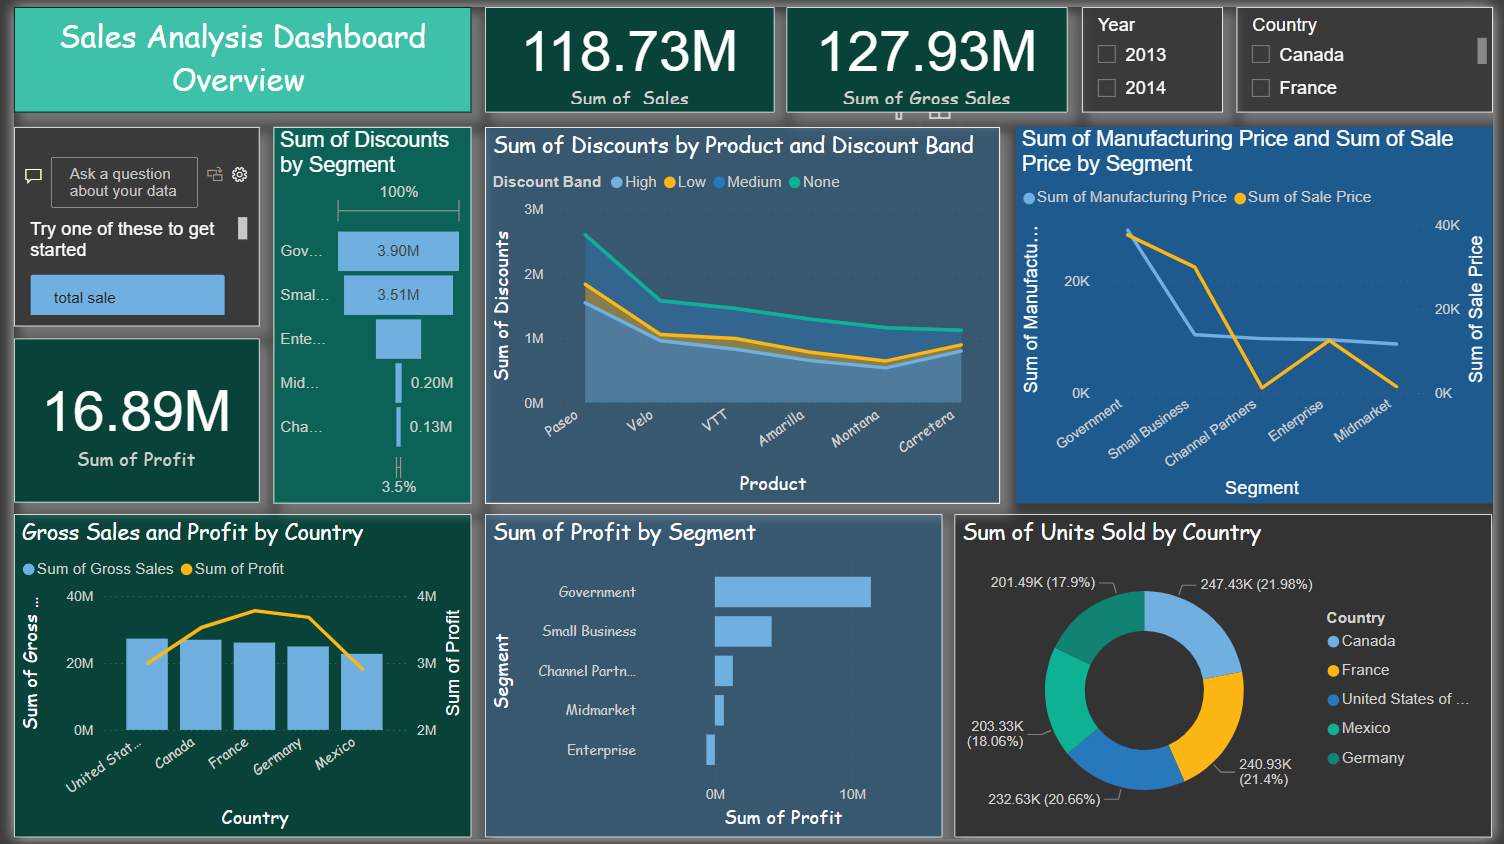

Layout of this report page (visuals, bound fields, positions):
{"tool":"powerbi","page":{"name":"Page 1","canvas":[1280,720],"ordinal":0},"visuals":[{"type":"lineStackedColumnComboChart","title":"Gross Sales and Profit by Country","fields":{"Category":["financials.Country"],"Y":["Sum(financials.Gross Sales)"],"Y2":["Sum(financials.Profit)"]},"box":[0,439.5,396.3,280.2],"z":0},{"type":"textbox","box":[0,0,396.3,91.4],"z":1000},{"type":"barChart","fields":{"Category":["financials.Segment"],"Y":["Sum(financials.Profit)"]},"box":[407.4,439.5,396.3,280.2],"z":2000},{"type":"donutChart","fields":{"Category":["financials.Country"],"Y":["Sum(financials.Units Sold)"]},"box":[814.8,439.5,465.4,280.2],"z":3000},{"type":"card","fields":{"Values":["Sum(financials. Sales)"]},"box":[407.4,0,250.6,91.4],"z":4000},{"type":"stackedAreaChart","fields":{"Category":["financials.Product"],"Series":["financials.Discount Band"],"Y":["Sum(financials.Discounts)"]},"box":[407.4,103.7,445.7,325.9],"z":5000},{"type":"qnaVisual","box":[0,103.7,212.3,172.8],"z":6000},{"type":"slicer","fields":{"Values":["financials.Country"]},"box":[1058,0,222.2,91.4],"z":7000},{"type":"slicer","fields":{"Values":["financials.Year"]},"box":[924.7,0,122.2,91.4],"z":8000},{"type":"card","fields":{"Values":["Sum(financials.Gross Sales)"]},"box":[669.1,0,243.2,91.4],"z":9000},{"type":"card","fields":{"Values":["Sum(financials.Profit)"]},"box":[0,287.7,212.3,142],"z":9001},{"type":"lineChart","fields":{"Category":["financials.Segment"],"Y2":["Sum(financials.Sale Price)"],"Y":["Sum(financials.Manufacturing Price)"]},"box":[867.9,103.7,412.3,325.9],"z":9002},{"type":"funnel","fields":{"Category":["financials.Segment"],"Y":["Sum(financials.Discounts)"]},"box":[224.7,103.7,171.6,325.9],"z":9003}]}

Visuals, with their boxes in screenshot pixels (x1, y1, x2, y2), scaled from the page's 1280x720 canvas onto the 1504x844 screenshot:
"Gross Sales and Profit by Country" lineStackedColumnComboChart: detection(0, 515, 466, 843)
textbox: detection(0, 0, 466, 107)
barChart - financials.Segment x Sum(financials.Profit): detection(479, 515, 944, 843)
donutChart - financials.Country x Sum(financials.Units Sold): detection(957, 515, 1503, 843)
card - Sum(financials. Sales): detection(479, 0, 773, 107)
stackedAreaChart - financials.Product x financials.Discount Band: detection(479, 122, 1002, 504)
qnaVisual: detection(0, 122, 249, 324)
slicer - financials.Country: detection(1243, 0, 1503, 107)
slicer - financials.Year: detection(1087, 0, 1230, 107)
card - Sum(financials.Gross Sales): detection(786, 0, 1072, 107)
card - Sum(financials.Profit): detection(0, 337, 249, 504)
lineChart - financials.Segment x Sum(financials.Sale Price): detection(1020, 122, 1503, 504)
funnel - financials.Segment x Sum(financials.Discounts): detection(264, 122, 466, 504)
